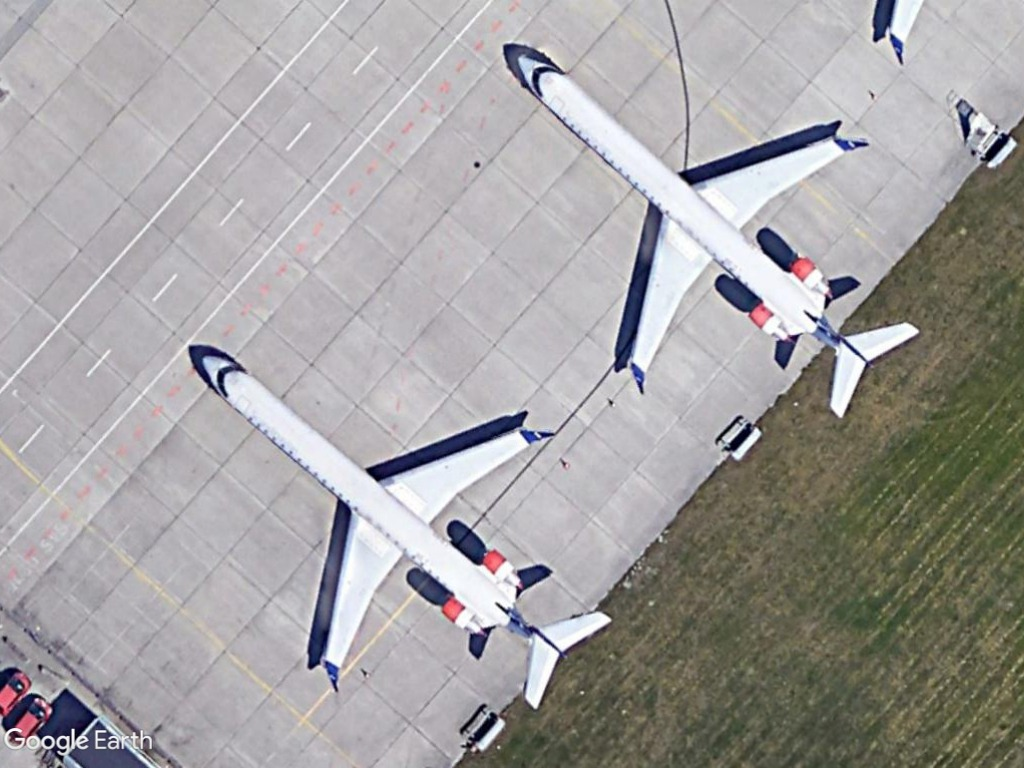chartered: (192, 346, 616, 720), (509, 45, 923, 426)
